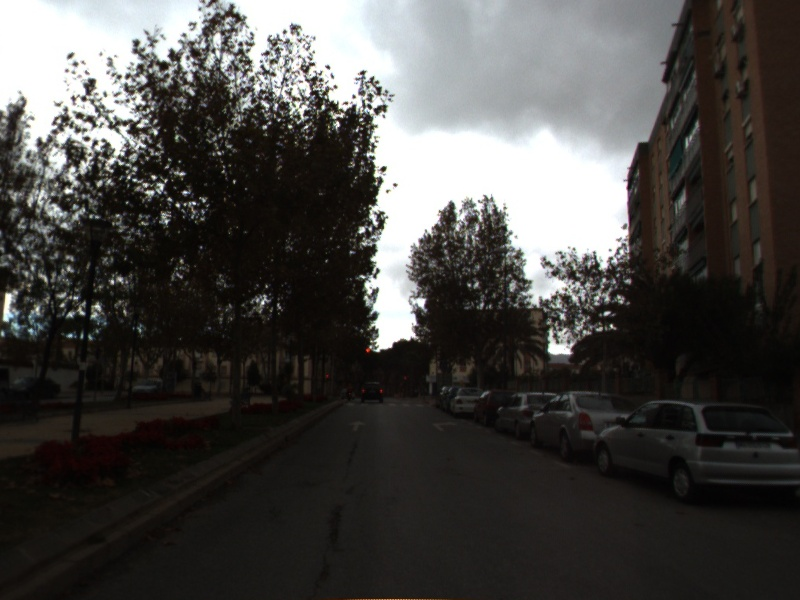RIGHT: (430, 418, 462, 434)
STRAIGHT: (346, 418, 369, 434)
